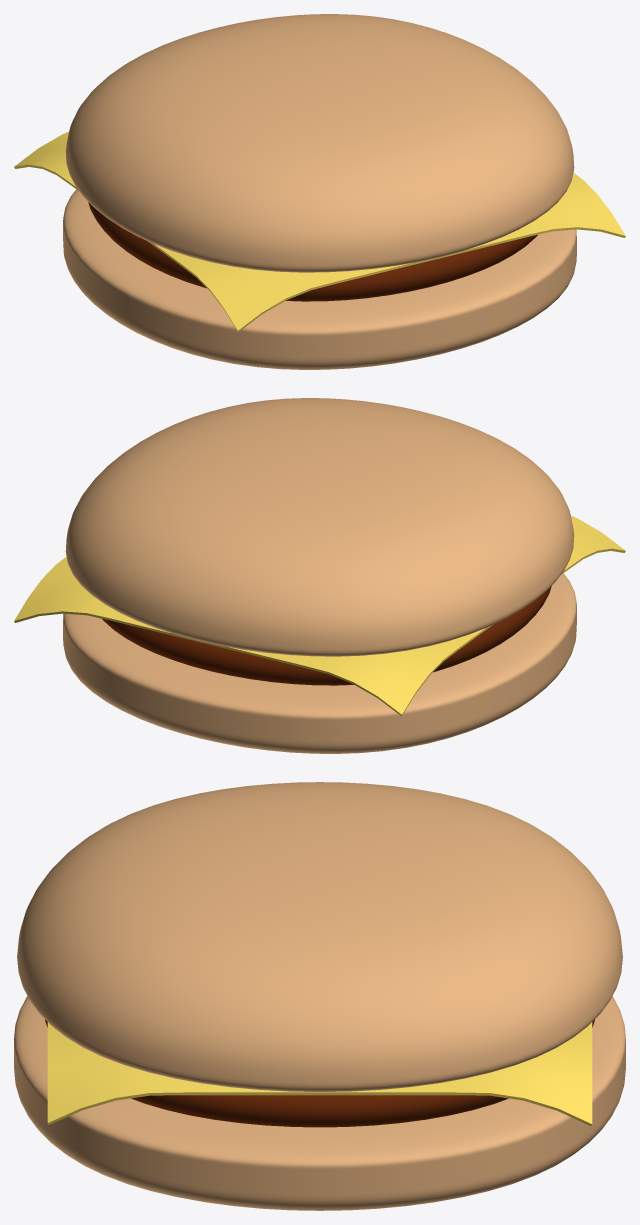
Rendered from hamburger1.glb.
3 views of the same model, one above another, from view 1: azimuth 30°, elevation 25°; view 2: azimuth 150°, elevation 25°; view 3: azimuth 270°, elevation 25° (orthographic). The views are drawn at different scales.
Parts seen in each view (by area): view 1: Cube.002, Cube, Plane, Cube.001; view 2: Cube.002, Cube, Plane, Cube.001; view 3: Cube.002, Cube, Plane, Cube.001.
Part boxes in pixels (x1,y1,x2,y2): Cube.002: [65, 14, 574, 272]; Cube: [63, 189, 576, 369]; Plane: [14, 131, 625, 331]; Cube.001: [88, 202, 537, 301]; Cube.002: [65, 398, 574, 656]; Cube: [63, 573, 576, 753]; Plane: [14, 515, 625, 715]; Cube.001: [102, 586, 551, 685]; Cube.002: [17, 782, 622, 1091]; Cube: [14, 996, 625, 1210]; Plane: [47, 1022, 592, 1125]; Cube.001: [45, 1019, 594, 1127].
Size of the model in its own units: 9.19 by 4.26 by 9.19.
